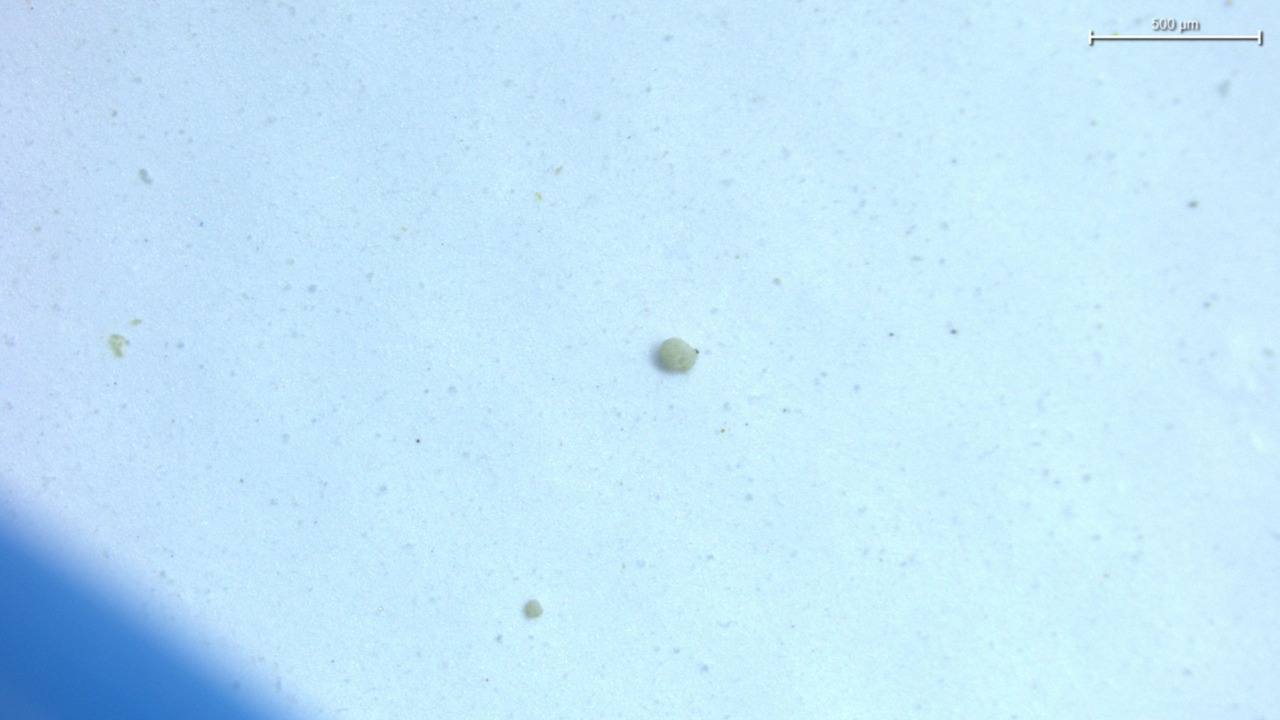microplastic_fragment: (659, 337, 698, 372)
